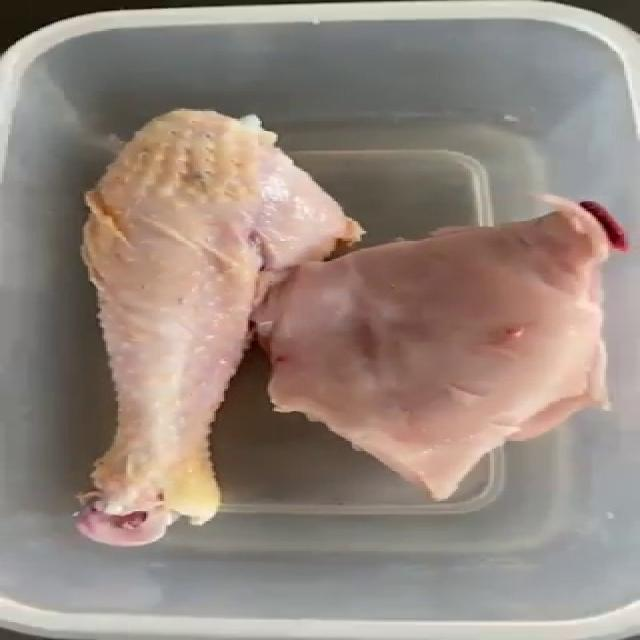chicken: (76, 105, 640, 541)
